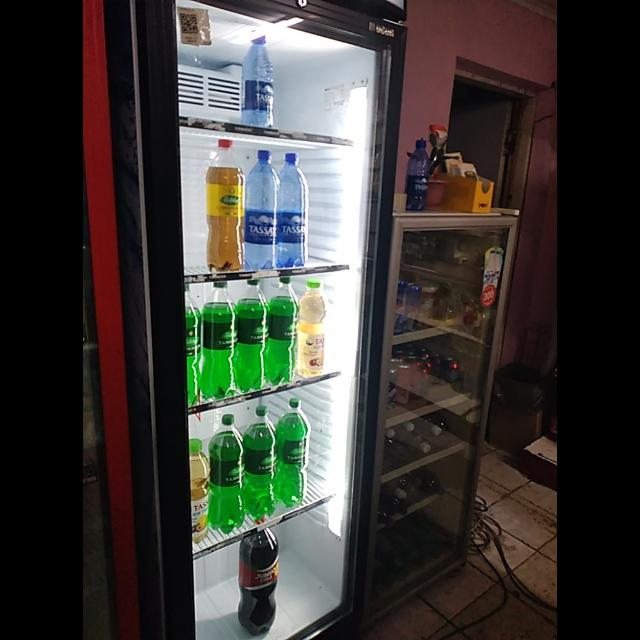Cooling-Display: (135, 1, 407, 640)
